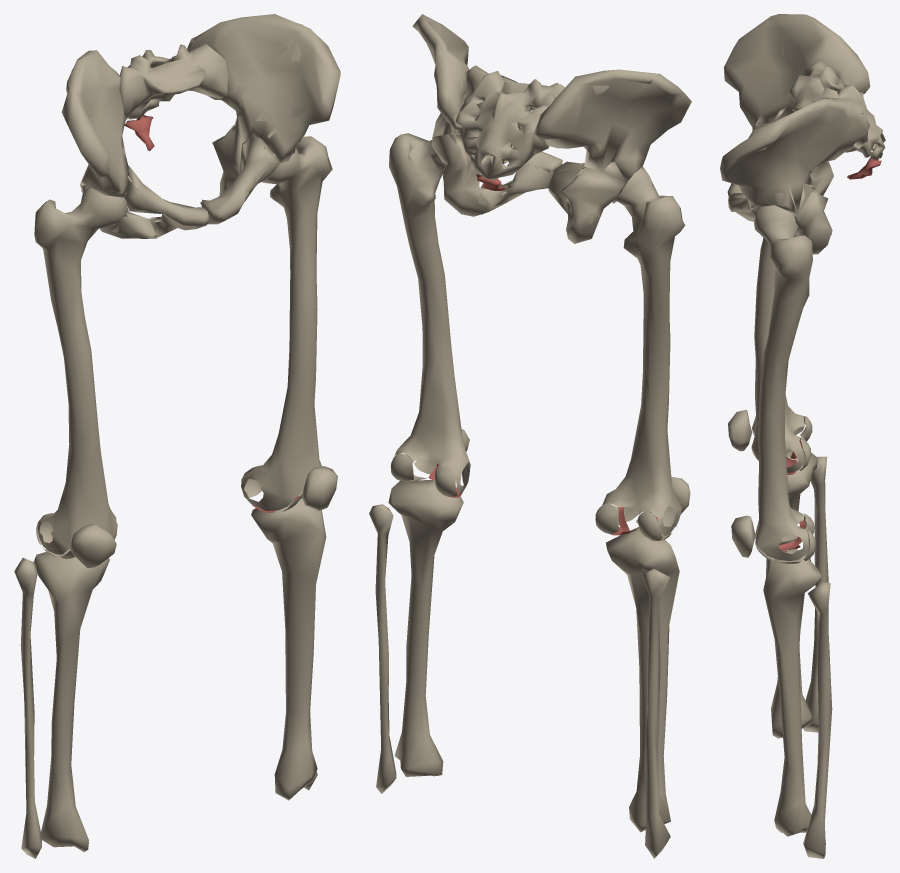
The model's file is adult_female.skeletal.LOD3.glb.
3 renders of one model, left to right at view 1: azimuth 30°, elevation 25°; view 2: azimuth 150°, elevation 25°; view 3: azimuth 270°, elevation 25°, orthographic. The views are drawn at different scales.
Parts seen in each view (by area): view 1: ADULT.FEMALE.SKELETAL.FEMUR.R, ADULT.FEMALE.SKELETAL.FEMUR.L, ADULT.FEMALE.SKELETAL.ILIUM_COMPACT_BONE.L, ADULT.FEMALE.SKELETAL.TIBIA.L, ADULT.FEMALE.SKELETAL.TIBIA.R, ADULT.FEMALE.SKELETAL.ILIUM_COMPACT_BONE.R, ADULT.FEMALE.SKELETAL.SACRUM, ADULT.FEMALE.SKELETAL.FIBULA.R, ADULT.FEMALE.SKELETAL.PUBIS_COMPACT_BONE.L, ADULT.FEMALE.SKELETAL.PUBIS_COMPACT_BONE.R, ADULT.FEMALE.SKELETAL.PATELLA.R, ADULT.FEMALE.SKELETAL.PATELLA.L (+3 smaller); view 2: ADULT.FEMALE.SKELETAL.FEMUR.R, ADULT.FEMALE.SKELETAL.FEMUR.L, ADULT.FEMALE.SKELETAL.ILIUM_COMPACT_BONE.R, ADULT.FEMALE.SKELETAL.TIBIA.L, ADULT.FEMALE.SKELETAL.SACRUM, ADULT.FEMALE.SKELETAL.TIBIA.R, ADULT.FEMALE.SKELETAL.FIBULA.R, ADULT.FEMALE.SKELETAL.ILIUM_COMPACT_BONE.L, ADULT.FEMALE.SKELETAL.FIBULA.L, ADULT.FEMALE.SKELETAL.ISCHIUM_COMPACT_BONE.L, ADULT.FEMALE.SKELETAL.ISCHIUM_COMPACT_BONE.R, ADULT.FEMALE.SKELETAL.PUBIS_COMPACT_BONE.L (+1 smaller); view 3: ADULT.FEMALE.SKELETAL.FEMUR.L, ADULT.FEMALE.SKELETAL.ILIUM_COMPACT_BONE.L, ADULT.FEMALE.SKELETAL.ILIUM_COMPACT_BONE.R, ADULT.FEMALE.SKELETAL.TIBIA.L, ADULT.FEMALE.SKELETAL.FIBULA.L, ADULT.FEMALE.SKELETAL.FEMUR.R, ADULT.FEMALE.SKELETAL.SACRUM, ADULT.FEMALE.SKELETAL.FIBULA.R, ADULT.FEMALE.SKELETAL.TIBIA.R, ADULT.FEMALE.SKELETAL.ISCHIUM_COMPACT_BONE.L, ADULT.FEMALE.SKELETAL.PATELLA.L, ADULT.FEMALE.SKELETAL.PATELLA.R (+2 smaller).
Boxes of the visible parts, x1,y1,x2,y2 form: ADULT.FEMALE.SKELETAL.FEMUR.R: (34, 186, 127, 554); ADULT.FEMALE.SKELETAL.FEMUR.L: (241, 136, 332, 510); ADULT.FEMALE.SKELETAL.ILIUM_COMPACT_BONE.L: (187, 14, 340, 163); ADULT.FEMALE.SKELETAL.TIBIA.L: (251, 494, 326, 800); ADULT.FEMALE.SKELETAL.TIBIA.R: (33, 552, 109, 851); ADULT.FEMALE.SKELETAL.ILIUM_COMPACT_BONE.R: (61, 50, 129, 197); ADULT.FEMALE.SKELETAL.SACRUM: (119, 44, 228, 120); ADULT.FEMALE.SKELETAL.FIBULA.R: (14, 558, 41, 858); ADULT.FEMALE.SKELETAL.PUBIS_COMPACT_BONE.L: (201, 137, 280, 224); ADULT.FEMALE.SKELETAL.PUBIS_COMPACT_BONE.R: (124, 165, 209, 237); ADULT.FEMALE.SKELETAL.PATELLA.R: (69, 524, 116, 567); ADULT.FEMALE.SKELETAL.PATELLA.L: (301, 466, 337, 510); ADULT.FEMALE.SKELETAL.FEMUR.R: (595, 167, 685, 535); ADULT.FEMALE.SKELETAL.FEMUR.L: (389, 133, 470, 494); ADULT.FEMALE.SKELETAL.ILIUM_COMPACT_BONE.R: (533, 69, 691, 182); ADULT.FEMALE.SKELETAL.TIBIA.L: (388, 480, 463, 776); ADULT.FEMALE.SKELETAL.SACRUM: (456, 65, 564, 180); ADULT.FEMALE.SKELETAL.TIBIA.R: (606, 527, 679, 832); ADULT.FEMALE.SKELETAL.FIBULA.R: (642, 569, 670, 858); ADULT.FEMALE.SKELETAL.ILIUM_COMPACT_BONE.L: (412, 14, 469, 136); ADULT.FEMALE.SKELETAL.FIBULA.L: (369, 504, 396, 793); ADULT.FEMALE.SKELETAL.ISCHIUM_COMPACT_BONE.L: (431, 134, 507, 216); ADULT.FEMALE.SKELETAL.ISCHIUM_COMPACT_BONE.R: (560, 167, 625, 243); ADULT.FEMALE.SKELETAL.PUBIS_COMPACT_BONE.L: (477, 137, 562, 202); ADULT.FEMALE.SKELETAL.FEMUR.L: (754, 205, 812, 561); ADULT.FEMALE.SKELETAL.ILIUM_COMPACT_BONE.L: (720, 97, 869, 216); ADULT.FEMALE.SKELETAL.ILIUM_COMPACT_BONE.R: (723, 14, 870, 130); ADULT.FEMALE.SKELETAL.TIBIA.L: (763, 548, 821, 836); ADULT.FEMALE.SKELETAL.FIBULA.L: (803, 582, 832, 858); ADULT.FEMALE.SKELETAL.FEMUR.R: (751, 238, 805, 472); ADULT.FEMALE.SKELETAL.SACRUM: (789, 60, 885, 160); ADULT.FEMALE.SKELETAL.FIBULA.R: (803, 456, 828, 732); ADULT.FEMALE.SKELETAL.TIBIA.R: (771, 447, 817, 738); ADULT.FEMALE.SKELETAL.ISCHIUM_COMPACT_BONE.L: (794, 187, 832, 254); ADULT.FEMALE.SKELETAL.PATELLA.L: (731, 515, 755, 557); ADULT.FEMALE.SKELETAL.PATELLA.R: (728, 410, 752, 451).
Size of the model in its own units: 0.3605 by 0.8994 by 0.1833.
